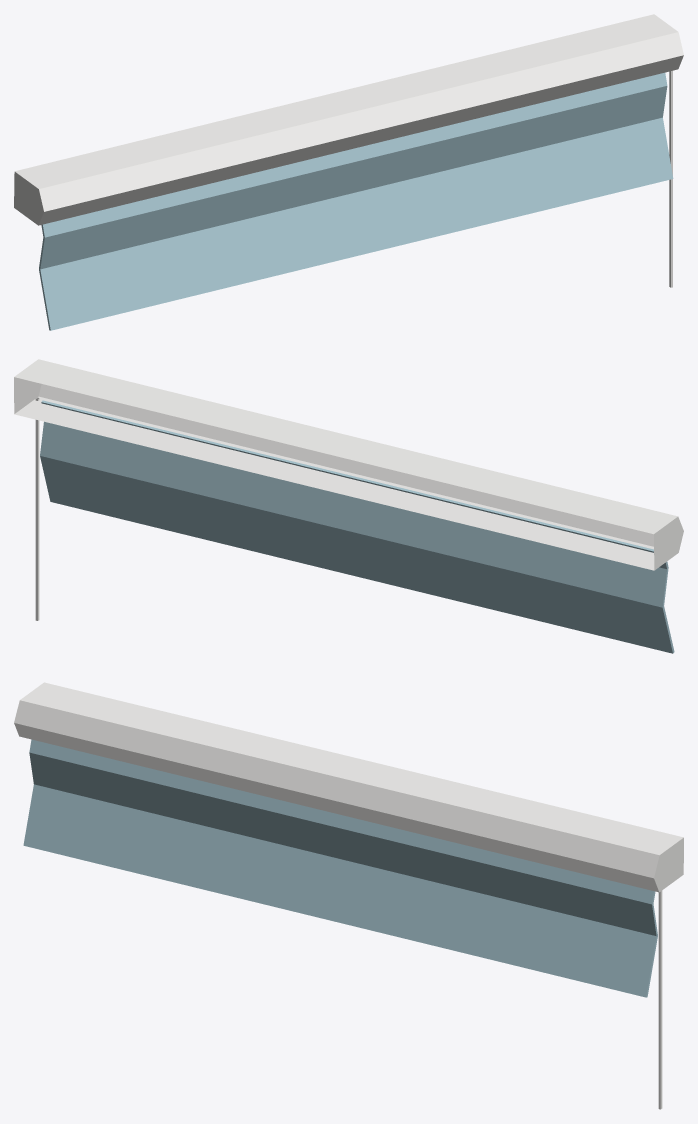
The model's file is Blinds_6.fbx.
3 renders of one model, top to bottom at view 1: azimuth 30°, elevation 25°; view 2: azimuth 150°, elevation 25°; view 3: azimuth 330°, elevation 25°, orthographic.
Parts seen in each view (by area): view 1: Blinds_6; view 2: Blinds_6; view 3: Blinds_6.
Part boxes in pixels (<box>): Blinds_6: <box>14,14,683,330</box>; Blinds_6: <box>14,359,683,653</box>; Blinds_6: <box>14,682,683,1109</box>.
Size of the model in its own units: 295 by 23.87 by 113.
